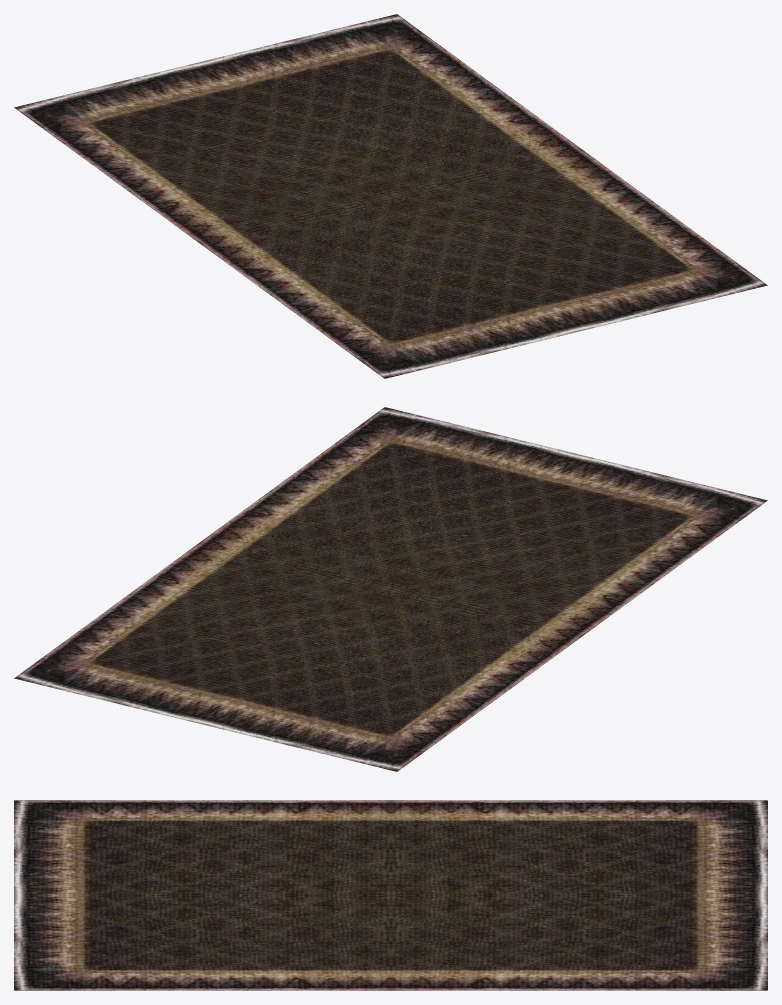
File: frn_all_rug_rectangle_lg_s03.fbx
3 views of the same model, one above another, from view 1: azimuth 30°, elevation 25°; view 2: azimuth 150°, elevation 25°; view 3: azimuth 270°, elevation 25° (orthographic).
Visible parts, largest first — view 1: mesh_node; view 2: mesh_node; view 3: mesh_node.
Part boxes in pixels (x1,y1,x2,y2): mesh_node: (14,14,767,378); mesh_node: (14,407,767,771); mesh_node: (14,800,767,990).
Bounding box in the file's own units: 5.97 × 0 × 10.01.
Materials: 1 (1 with a texture image).
